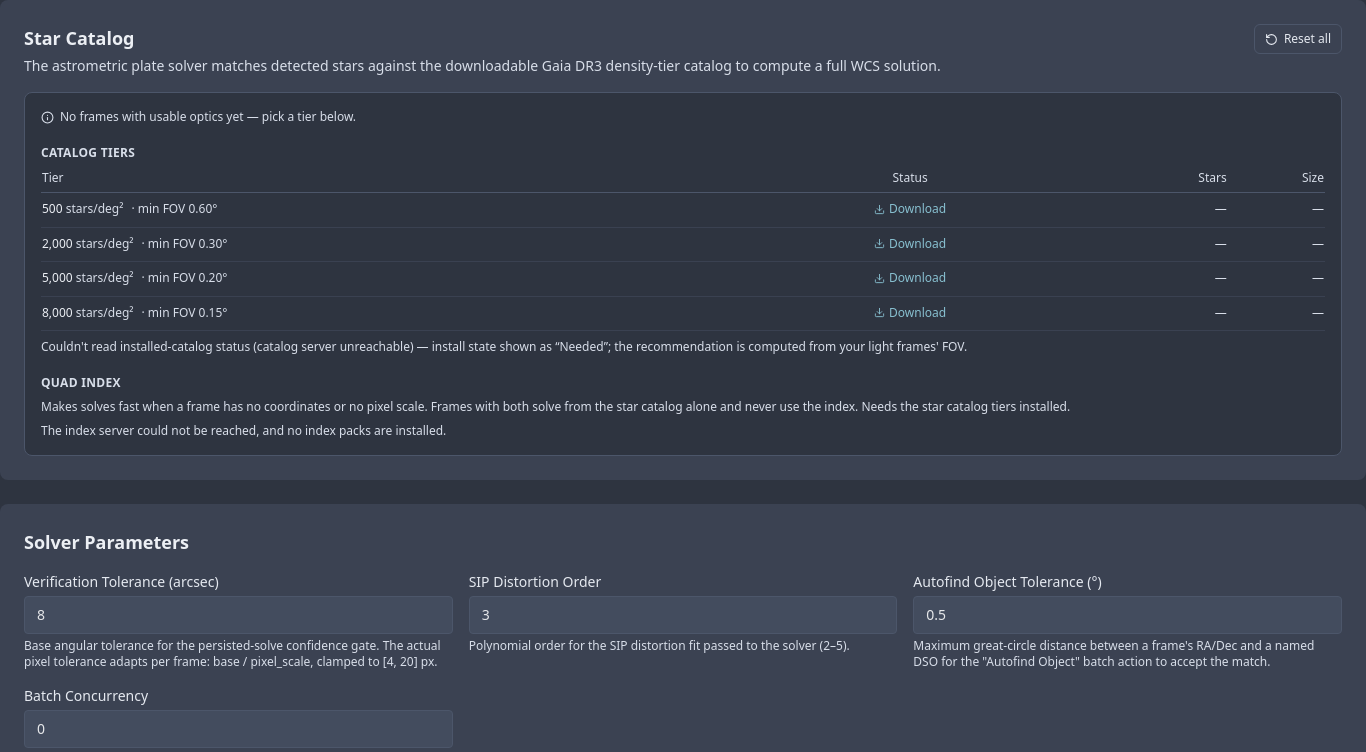
PlateSolveSettingsPanel › rejects an out-of-range SIP order inline and never commits it
Replace the text in the number field showing "3" below "SIP Distortion Order" with "9": (683, 615) [469,596,897,634]
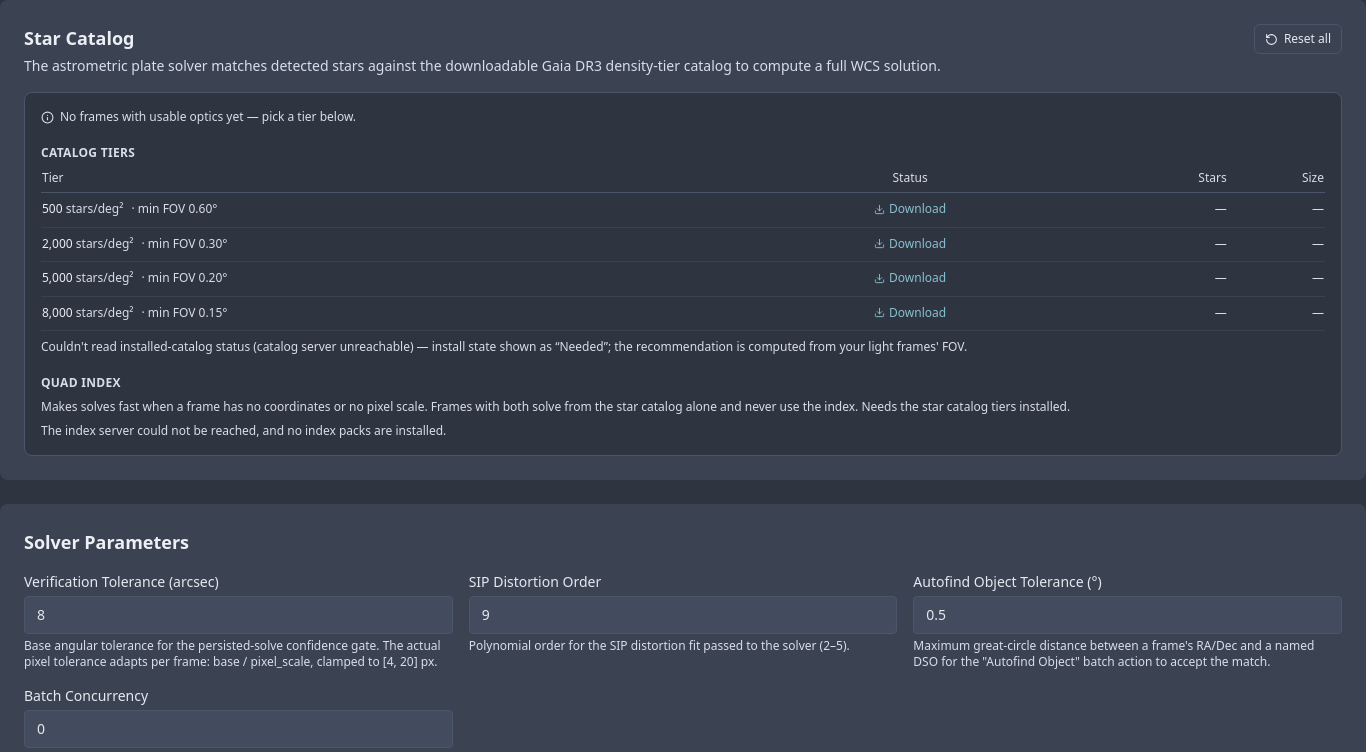
Leave the number field showing "3" below "SIP Distortion Order", box [469,596,897,634]
Wait 5000 ms
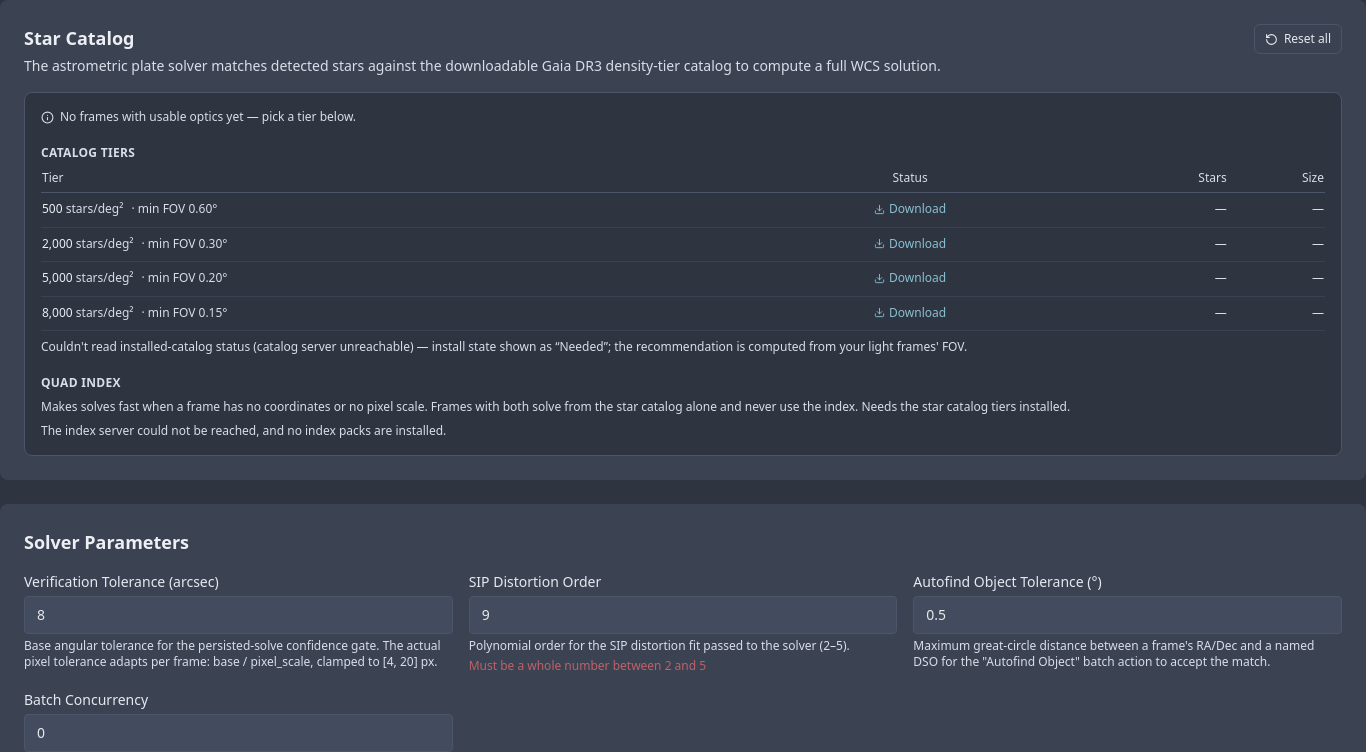
Result: the text "Must be a whole number between 2 and 5" is shown at [469,657,706,674]
